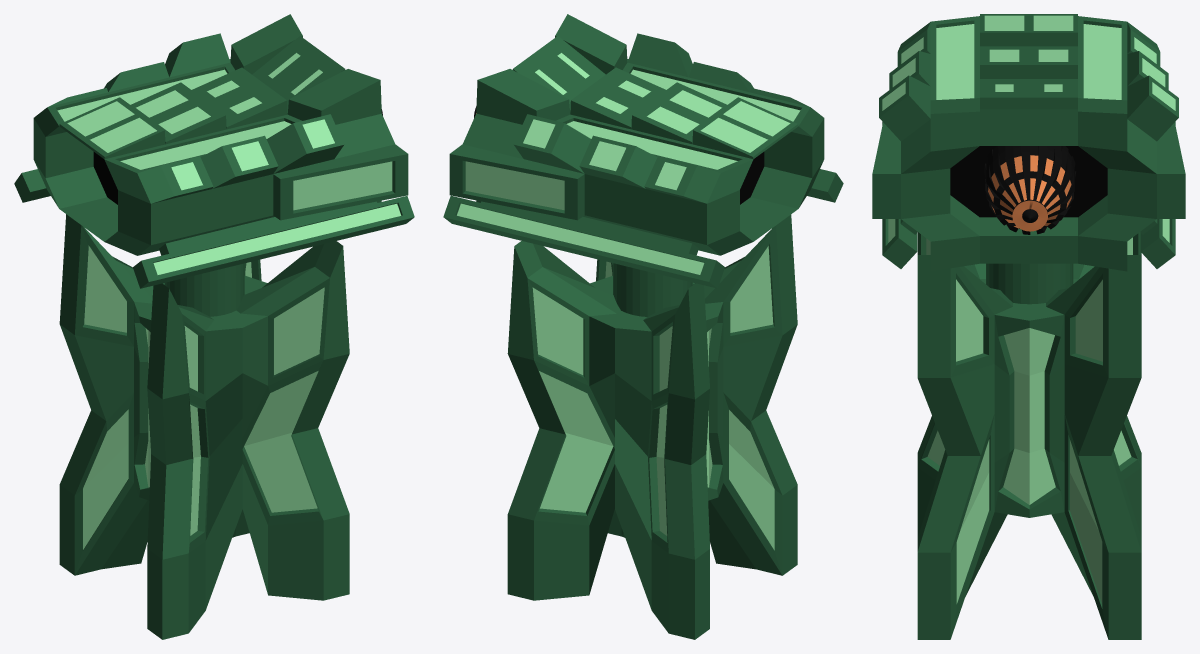
The model's file is MissileTowerHeavy.fbx.
3 renders of one model, left to right at view 1: azimuth 30°, elevation 25°; view 2: azimuth 150°, elevation 25°; view 3: azimuth 270°, elevation 25°, orthographic. The views are drawn at different scales.
Parts seen in each view (by area): view 1: Cube, Cube.001; view 2: Cube, Cube.001; view 3: Cube, Cube.001, Missile.001.
Boxes of the visible parts, x1=… form: Cube: x1=59, y1=214, x2=349, y2=639; Cube.001: x1=14, y1=14, x2=414, y2=288; Cube: x1=507, y1=214, x2=797, y2=639; Cube.001: x1=443, y1=14, x2=843, y2=288; Cube: x1=917, y1=232, x2=1141, y2=639; Cube.001: x1=872, y1=14, x2=1185, y2=271; Missile.001: x1=984, y1=146, x2=1076, y2=234.
Bounding box in the file's own units: 760 × 1212 × 631.
